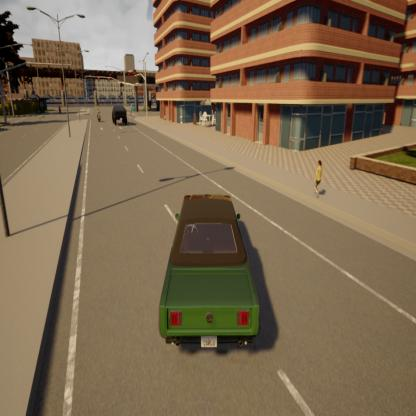Cars: (147, 179, 265, 359), (110, 102, 128, 128)
Pedestrian: (309, 153, 326, 206)
